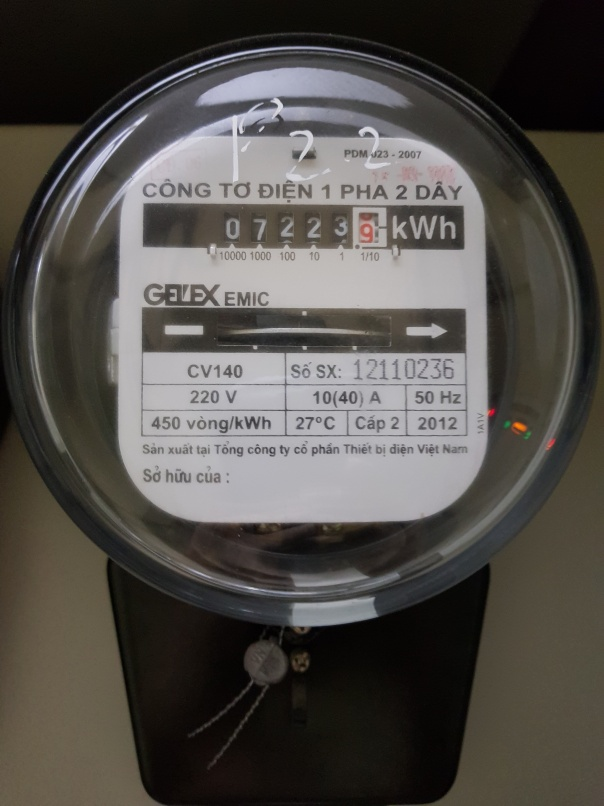counter: (143, 203, 466, 249)
electricity_meter: (13, 34, 604, 624)
